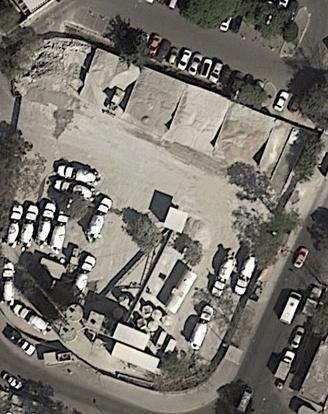parkingspot: (71, 4, 267, 100), (227, 14, 289, 55), (270, 87, 293, 115)
